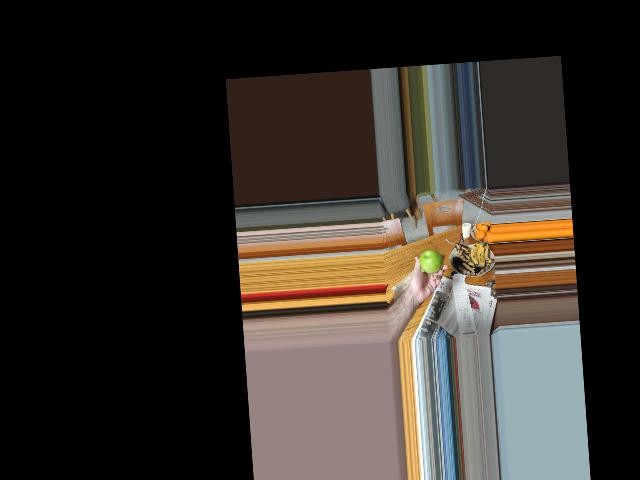apple: (416, 246, 444, 277)
